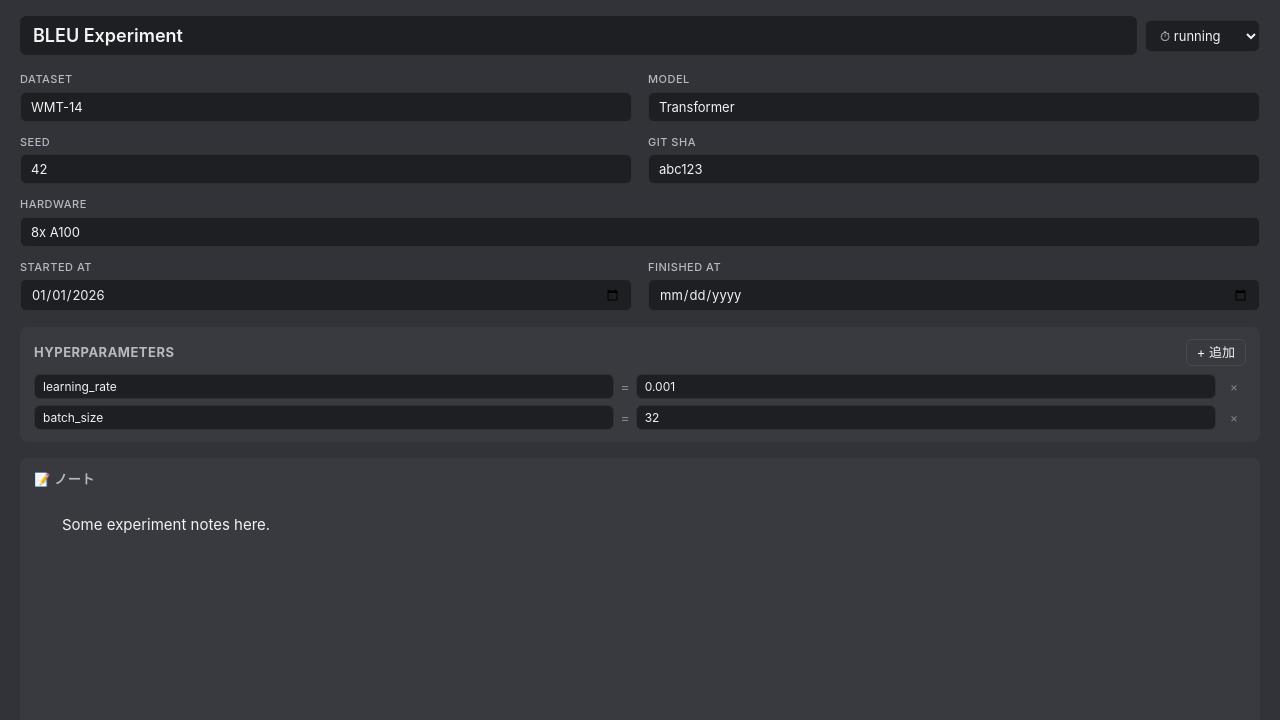
Test: ExperimentEditor actions › shows saved timestamp after save
Replace the text in the 1st field with placeholder "実験タイトル" with "X". click: [578, 36]
box: [20,16,1137,55]
Wait 800 ms
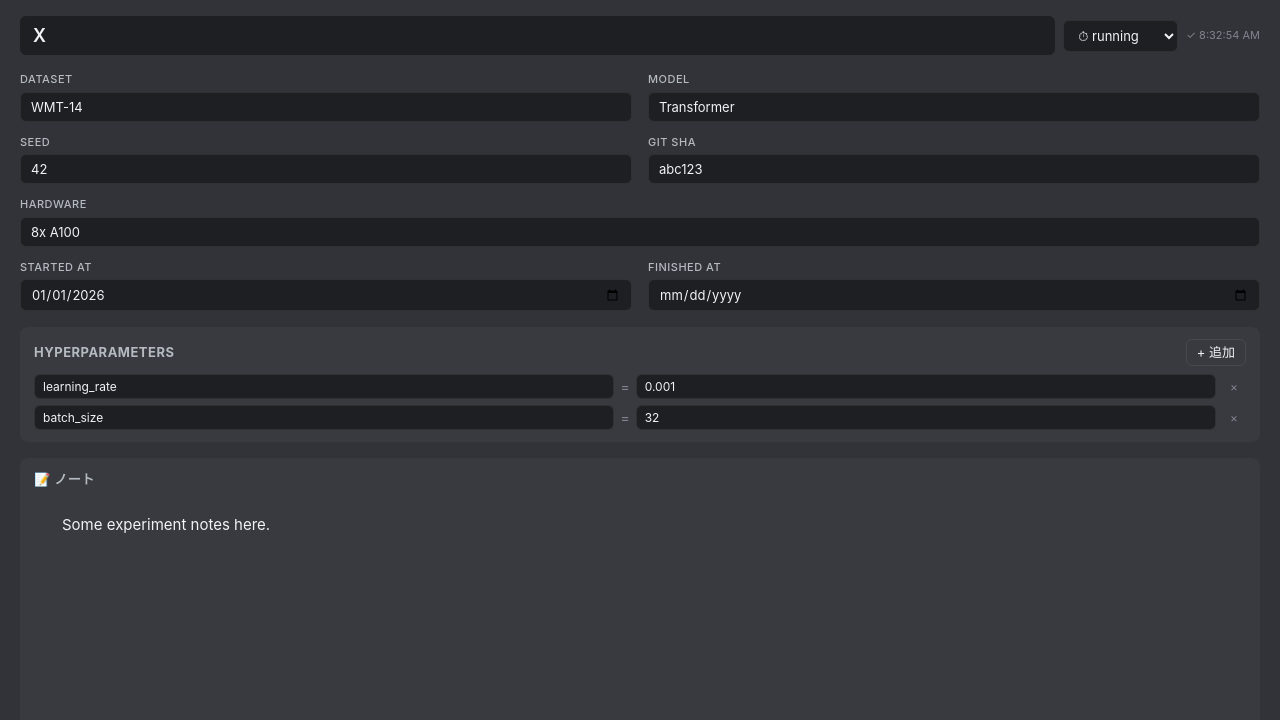
Result: the text "✓ 8:32:54 AM" is shown at [1186,27,1260,44]
